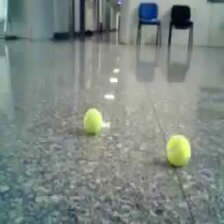tennis: (166, 135, 190, 165), (82, 108, 102, 133)
